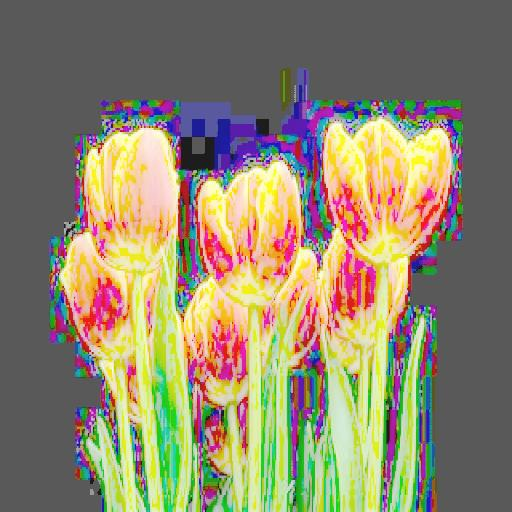tulip: (324, 122, 450, 260), (200, 160, 302, 305), (86, 126, 181, 273)
